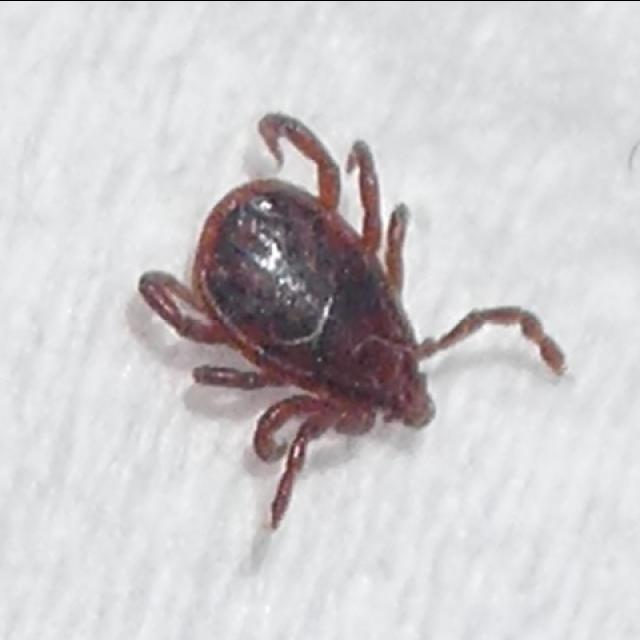Rhipicephalus Sanguineus-M: (139, 112, 564, 528)
